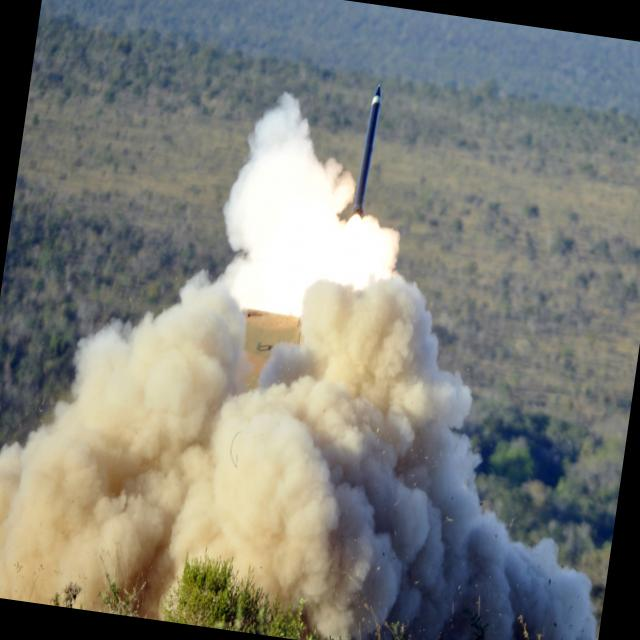rocket: (328, 79, 388, 299)
